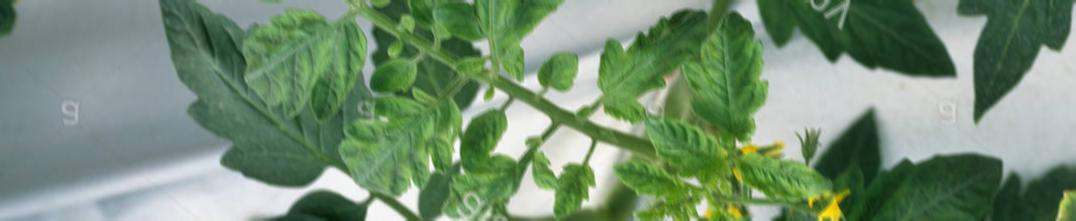Tomato leaf yellow virus: (687, 9, 777, 146), (641, 106, 748, 180), (714, 151, 842, 207)
